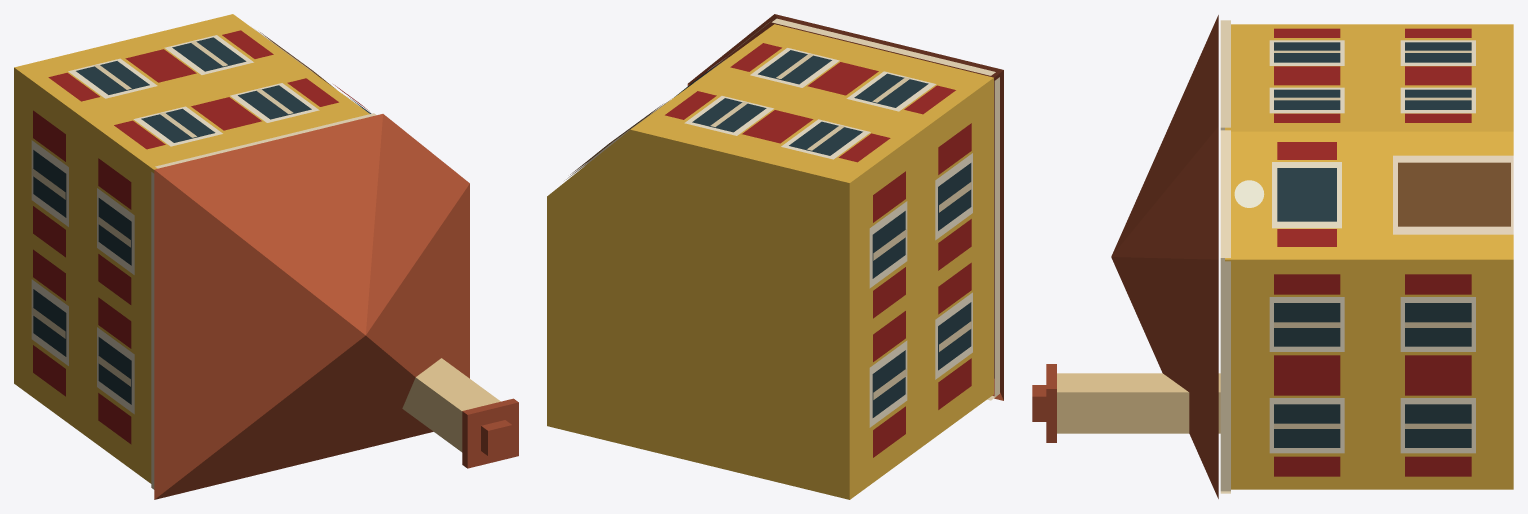
File: house-1.obj
3 renders of one model, left to right at view 1: azimuth 30°, elevation 25°; view 2: azimuth 150°, elevation 25°; view 3: azimuth 270°, elevation 25°, orthographic.
Size of the model in its own units: 2.09 by 2.09 by 2.75.
